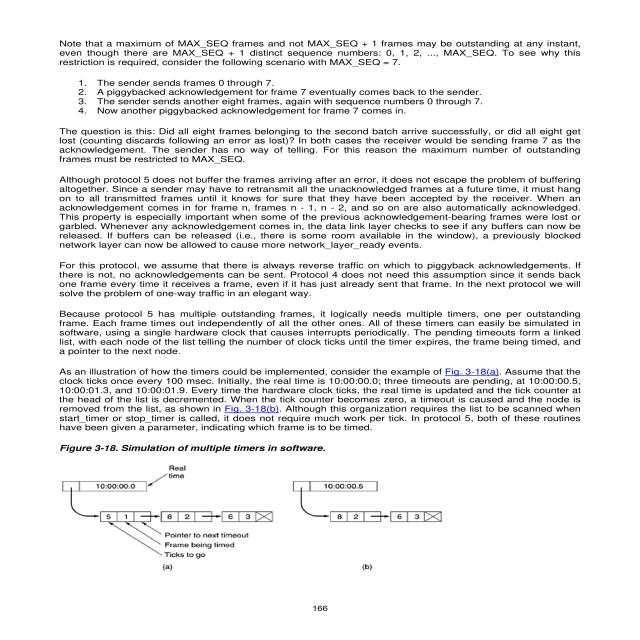diagram: (44, 434, 573, 602)
